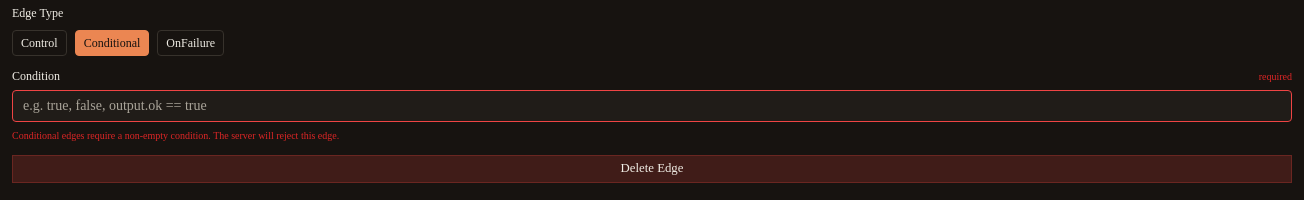
it: EdgeInspector accessible condition › focuses and edits the condition through its visible label
Expected: the text "required" is shown, [1259,68,1292,84]
Click the text "Condition" at (36, 76), box [12,68,60,84]
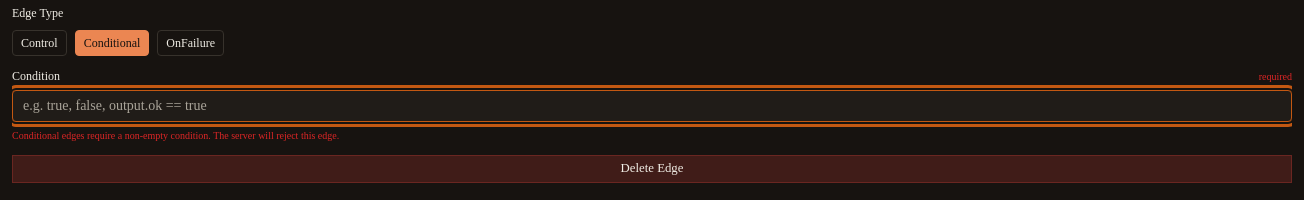
Type "output.ok == true" into the field labelled "Condition" at (652, 106), box [12,90,1292,122]
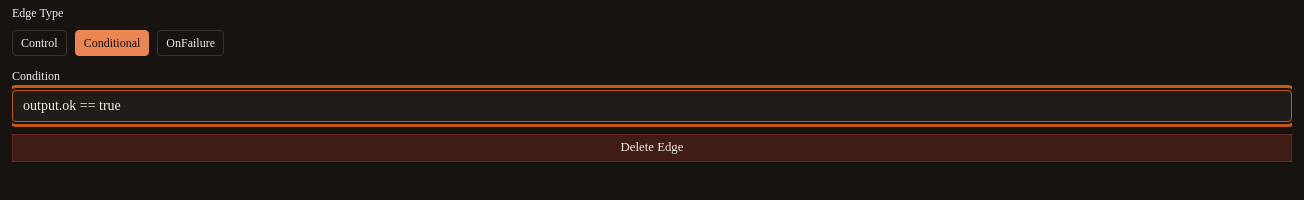
Now the text "required" is gone
